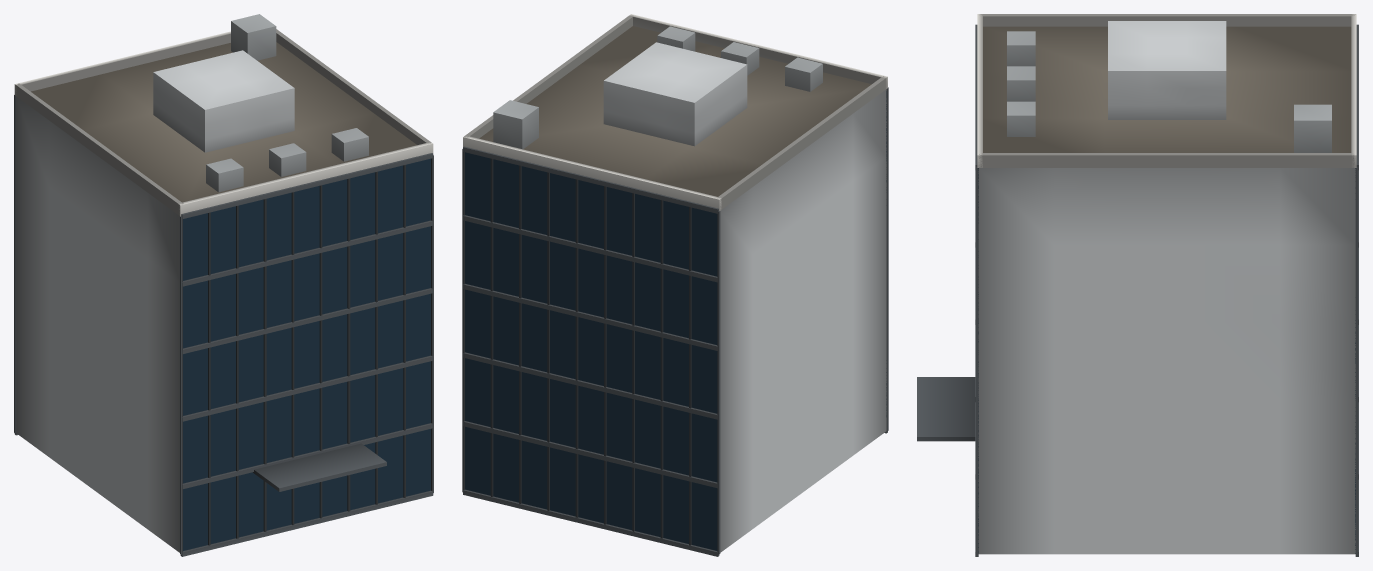
Rendered from torre-oficinas-DOxo4IaC.glb.
3 renders of one model, left to right at view 1: azimuth 30°, elevation 25°; view 2: azimuth 150°, elevation 25°; view 3: azimuth 270°, elevation 25°, orthographic. The views are drawn at different scales.
Visible parts, largest first — view 1: pieza.006, pieza, pieza.001, pieza.045, pieza.040, pieza.002, pieza.004, pieza.003, pieza.005, pieza.044, pieza.017, pieza.019 (+18 smaller); view 2: pieza.023, pieza, pieza.001, pieza.045, pieza.003, pieza.004, pieza.002, pieza.005, pieza.044, pieza.034, pieza.037, pieza.036 (+17 smaller); view 3: pieza, pieza.001, pieza.045, pieza.005, pieza.004, pieza.040, pieza.044, pieza.033, pieza.016, pieza.041, pieza.042, pieza.043 (+2 smaller).
Part boxes in pixels (box(x1,y1,x2,y2)): pieza.006: box(183, 158, 430, 550); pieza: box(16, 97, 179, 552); pieza.001: box(31, 42, 416, 202); pieza.045: box(153, 50, 294, 152); pieza.040: box(253, 443, 386, 491); pieza.002: box(178, 142, 433, 216); pieza.004: box(15, 83, 183, 215); pieza.003: box(14, 31, 230, 96); pieza.005: box(276, 29, 431, 144); pieza.044: box(231, 14, 276, 60); pieza.017: box(180, 490, 433, 556); pieza.019: box(182, 355, 433, 421); pieza.023: box(465, 152, 717, 550); pieza: box(720, 89, 886, 552); pieza.001: box(479, 26, 871, 196); pieza.045: box(603, 42, 747, 146); pieza.003: box(463, 135, 722, 210); pieza.004: box(716, 76, 885, 210); pieza.002: box(629, 14, 887, 89); pieza.005: box(464, 15, 633, 138); pieza.044: box(493, 100, 538, 149); pieza.034: box(463, 489, 719, 556); pieza.037: box(463, 283, 717, 350); pieza.036: box(463, 352, 717, 419); pieza: box(978, 168, 1355, 554); pieza.001: box(983, 26, 1351, 152); pieza.045: box(1108, 21, 1226, 119); pieza.005: box(979, 153, 1354, 167); pieza.004: box(980, 14, 1355, 26); pieza.040: box(917, 377, 975, 441); pieza.044: box(1294, 104, 1331, 152); pieza.033: box(1355, 167, 1358, 554); pieza.016: box(976, 167, 978, 554); pieza.041: box(1007, 31, 1035, 66); pieza.042: box(1007, 66, 1035, 101); pieza.043: box(1007, 101, 1035, 136).
Bounding box in the file's own units: 14.1 × 20.52 × 18.64.
